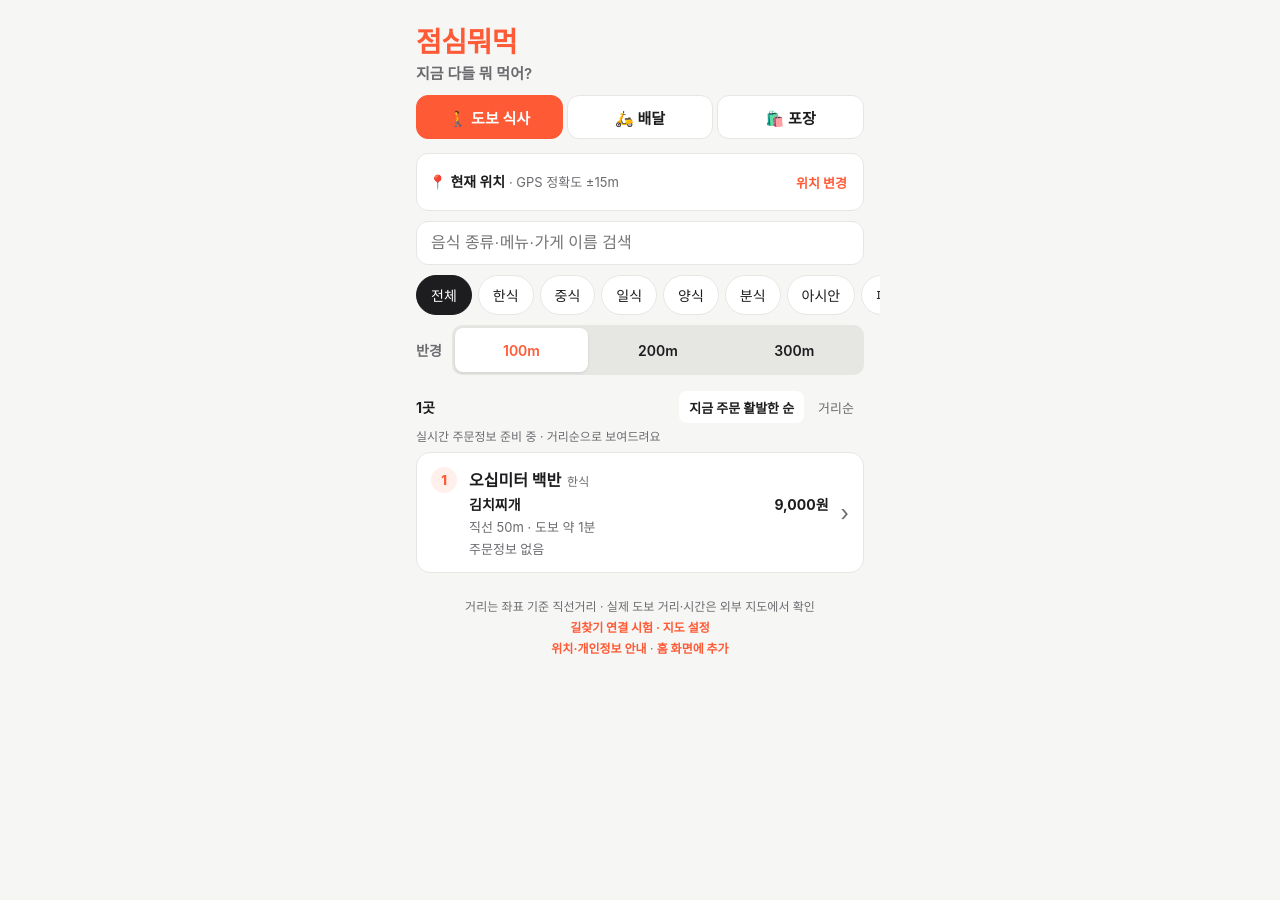
it: 8단계 — 시범 서비스 점검 › 홈 화면에 추가: 아이폰은 공유 메뉴 안내 (자동 설치 창 없음)
What coordinates should you click on to do the following:
click the button "홈 화면에 추가"
I would click on:
 (693, 648)
Its box is [657,639,729,656].
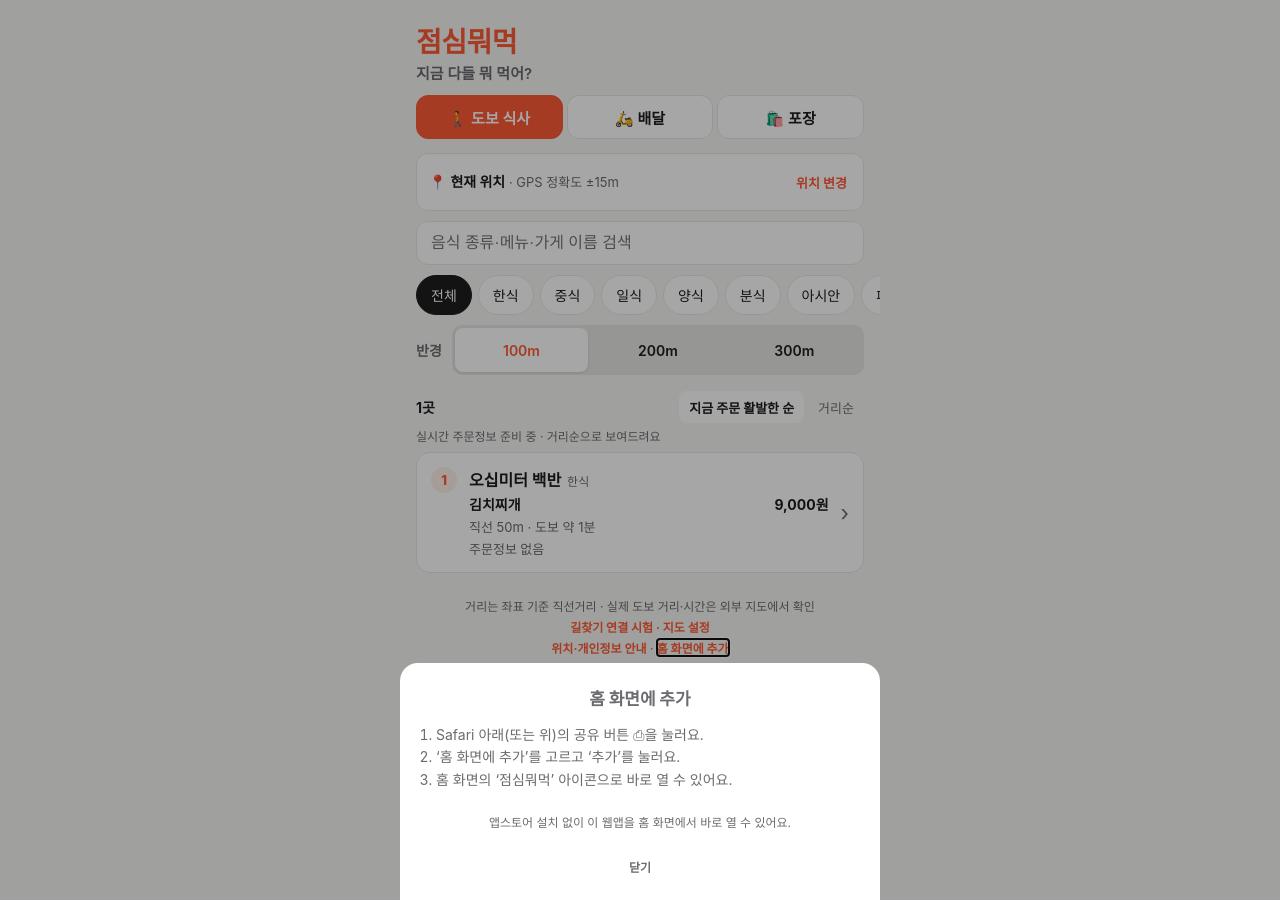
expect the dialog "홈 화면에 추가" shows "공유 버튼": met, box [436,726,633,743]
